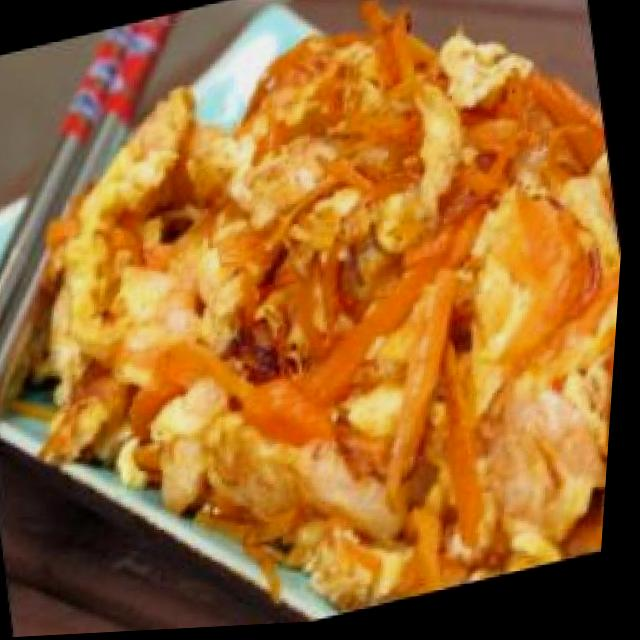carrot_eggs: (3, 0, 640, 638)
